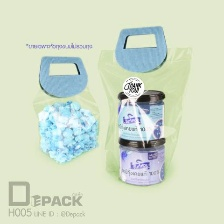snack: (90, 19, 197, 190), (25, 50, 105, 169)
